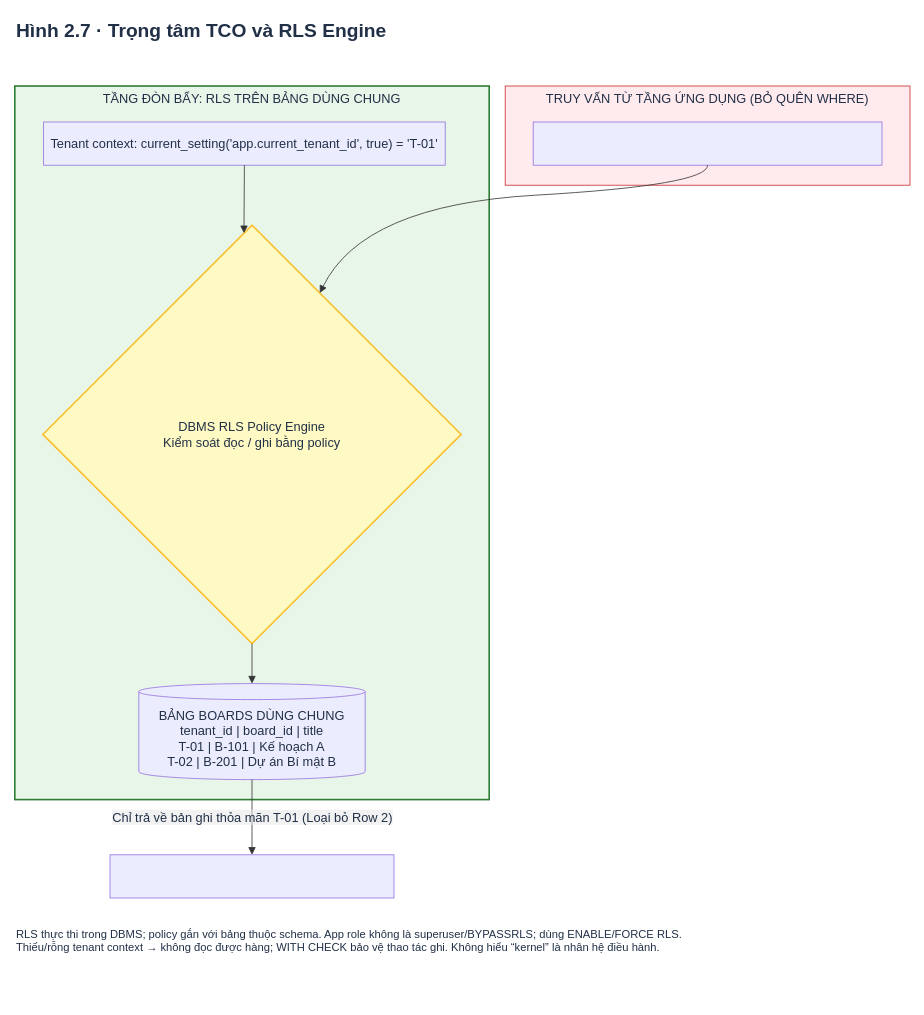
This 924x1015 diagram has some shape labels left out. The shapes that lost their labels are listed below. From the top down, each one's centre as x and y in pixels, then its label:
At point (707, 143): "SELECT * FROM boards; (Không có WHERE tenant_id)".
At point (251, 876): "Dữ liệu trả về: B-101 | Kế hoạch A".
